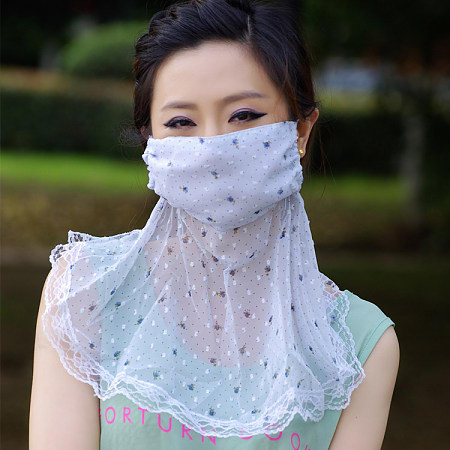face_mask: (153, 47, 290, 226)
